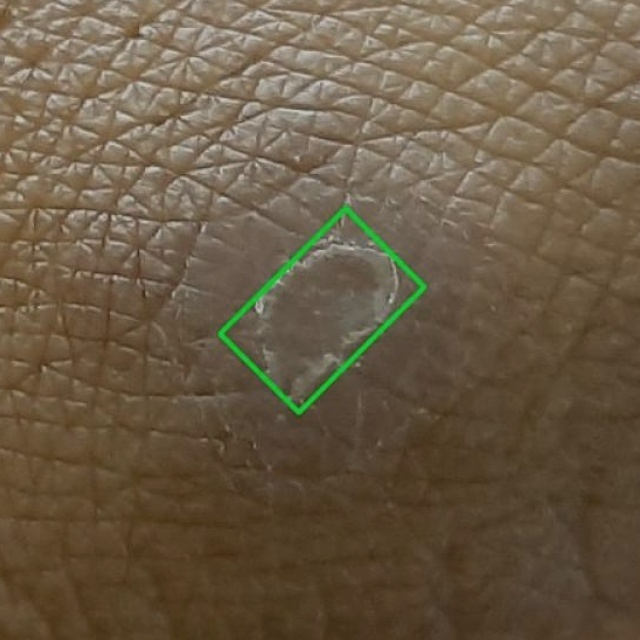Eczema: (219, 208, 423, 413)
